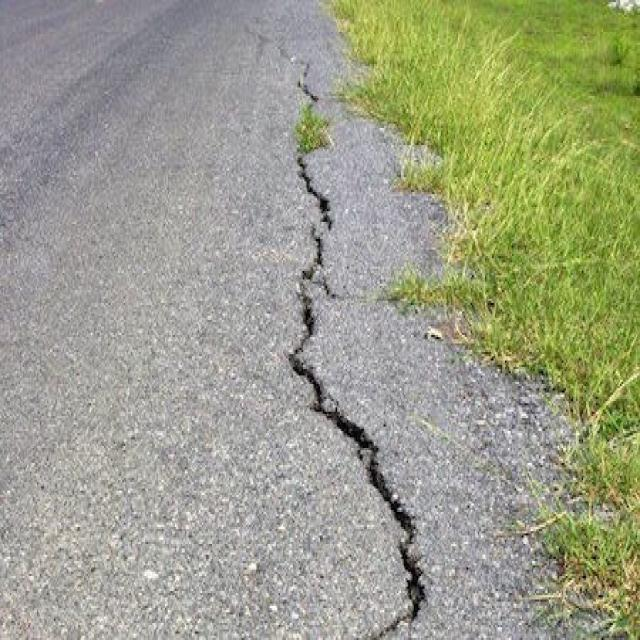Pothole: (238, 34, 640, 640)
